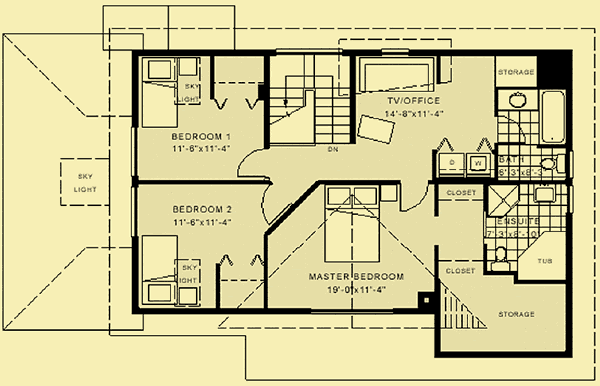bed: (321, 184, 383, 264), (139, 235, 181, 307), (139, 57, 178, 128)
door: (261, 184, 289, 225), (234, 147, 265, 179), (399, 180, 428, 214)
large_sink: (488, 244, 512, 270), (537, 152, 564, 175)
large_sofa: (356, 54, 435, 94)
small_sink: (499, 89, 538, 110), (529, 182, 559, 205)
stairs: (268, 55, 353, 149)
tub: (516, 232, 567, 282), (540, 88, 568, 147)
window: (128, 123, 141, 177), (128, 183, 138, 238), (378, 46, 412, 58)
